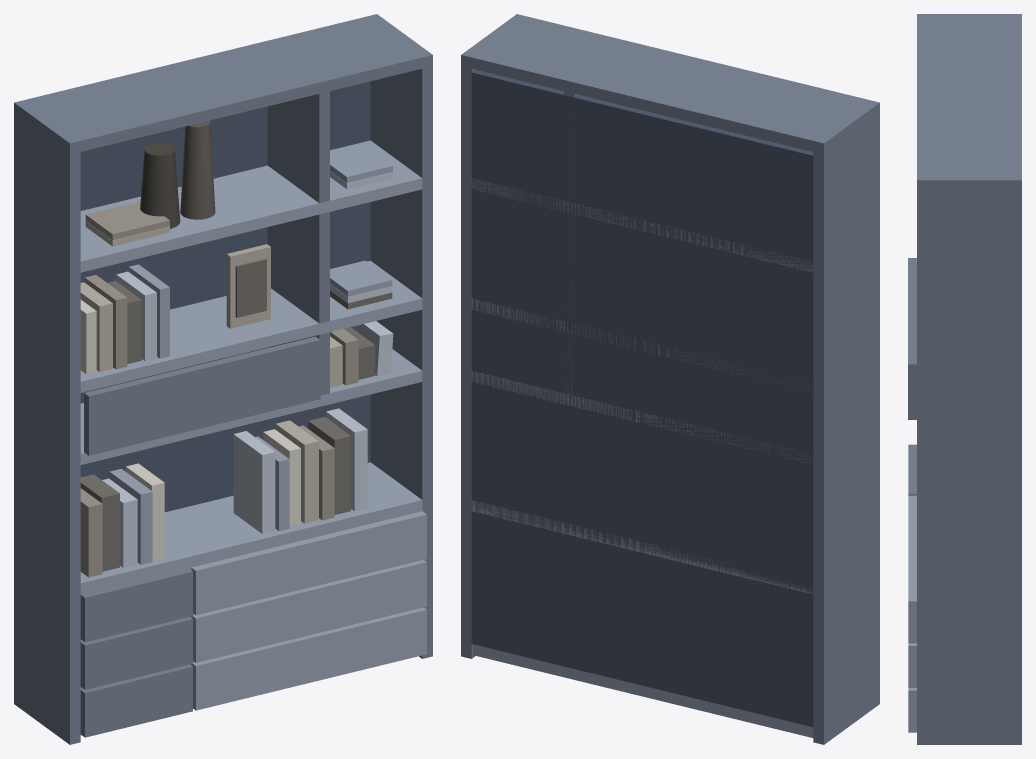
3 views of the same model, side by side, from view 1: azimuth 30°, elevation 25°; view 2: azimuth 150°, elevation 25°; view 3: azimuth 270°, elevation 25° (orthographic). The views are drawn at different scales.
Parts seen in each view (by area): view 1: bookcase; view 2: bookcase; view 3: bookcase.
Boxes of the visible parts, x1,y1,x2,y2 form: bookcase: [14, 14, 432, 744]; bookcase: [461, 14, 879, 744]; bookcase: [908, 14, 1021, 744].
Bounding box in the file's own units: 1.2 × 1.9 × 0.347.
